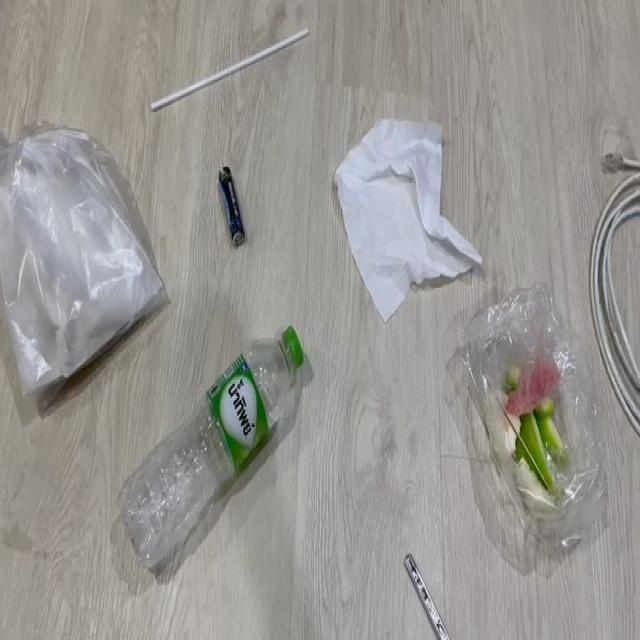Anorganik: (1, 123, 171, 380), (130, 346, 328, 546), (334, 96, 472, 320), (157, 38, 318, 104), (392, 546, 454, 640)
B3: (461, 308, 606, 548), (583, 145, 640, 436), (220, 151, 254, 255)
